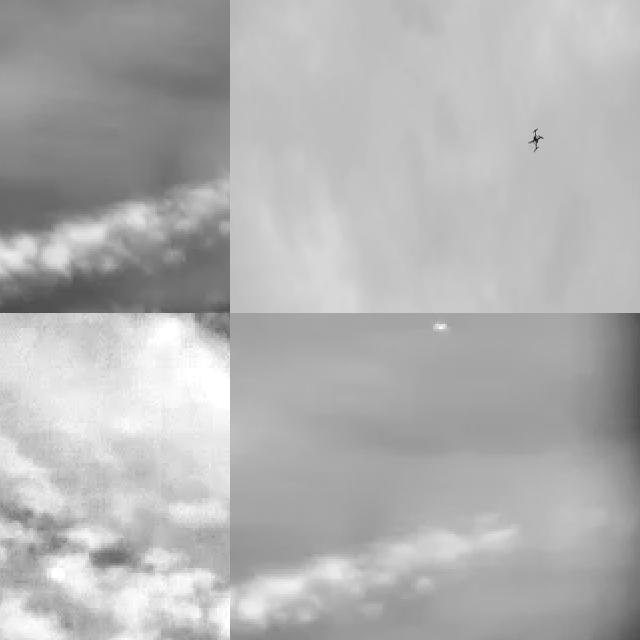0: (45, 563, 81, 595), (425, 316, 465, 344)
drone: (524, 121, 546, 152)
